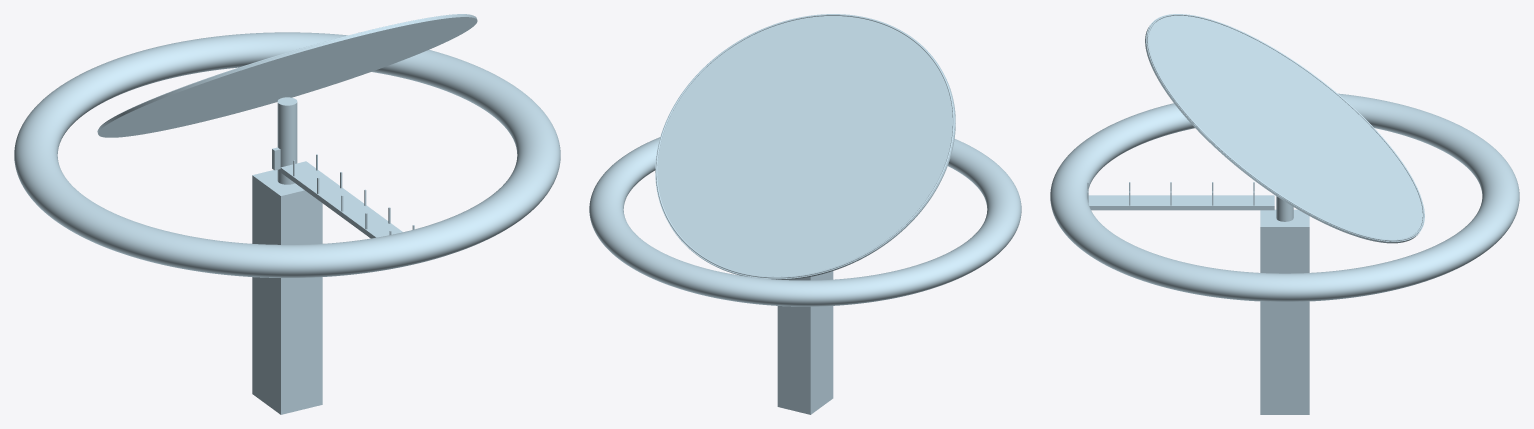
File: stage_excavate.glb
3 views of the same model, side by side, from view 1: azimuth 30°, elevation 25°; view 2: azimuth 150°, elevation 25°; view 3: azimuth 270°, elevation 25° (orthographic). The views are drawn at different scales.
Visible parts, largest first — view 1: Spoil berm, Solar disc, Pod container, Bridge deck, Hatch column, Solar rim; view 2: Solar disc, Spoil berm, Pod container, Solar rim; view 3: Solar disc, Spoil berm, Pod container, Bridge deck, Solar rim.
Boxes of the visible parts, left/top/right/bottom form: Spoil berm: left=14, top=32, right=560, bottom=277; Solar disc: left=97, top=14, right=477, bottom=137; Pod container: left=252, top=170, right=322, bottom=414; Bridge deck: left=280, top=161, right=402, bottom=238; Hatch column: left=277, top=97, right=297, bottom=184; Solar rim: left=99, top=14, right=472, bottom=127; Solar disc: left=655, top=14, right=955, bottom=279; Spoil berm: left=589, top=137, right=1021, bottom=306; Pod container: left=777, top=271, right=833, bottom=414; Solar rim: left=655, top=14, right=954, bottom=278; Solar disc: left=1145, top=14, right=1424, bottom=243; Spoil berm: left=1050, top=93, right=1519, bottom=301; Pod container: left=1260, top=209, right=1309, bottom=414; Bridge deck: left=1088, top=195, right=1274, bottom=210; Solar rim: left=1147, top=14, right=1424, bottom=241.
Bounding box in the file's own units: 27.6 × 23.8 × 27.6.
